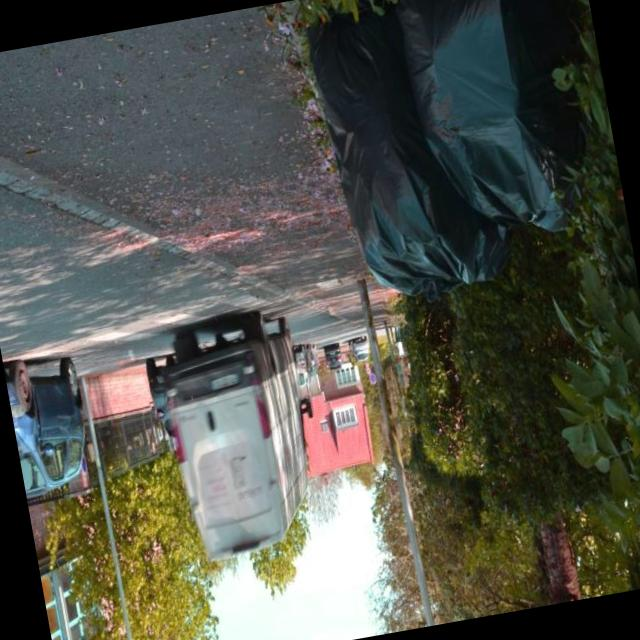high trash: (308, 0, 582, 294)
